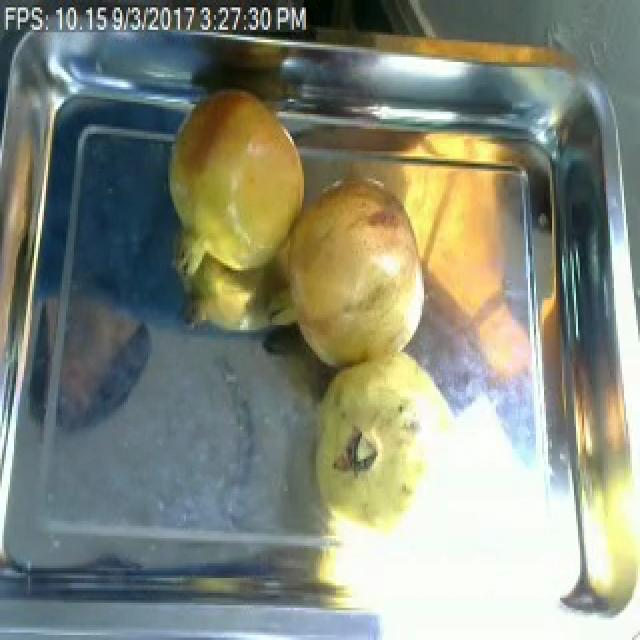fruit: (262, 156, 432, 384), (294, 340, 468, 546), (156, 79, 314, 288)
